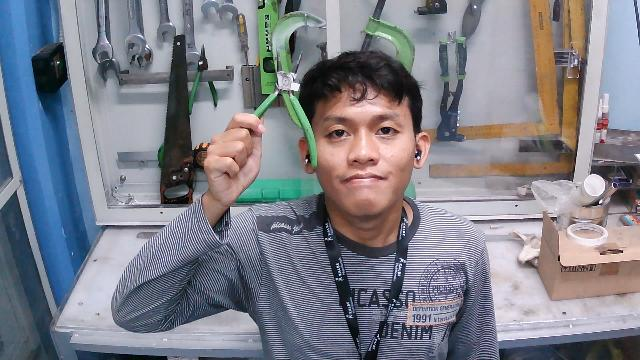tang_cucut_lancip_1: (235, 46, 331, 179)
